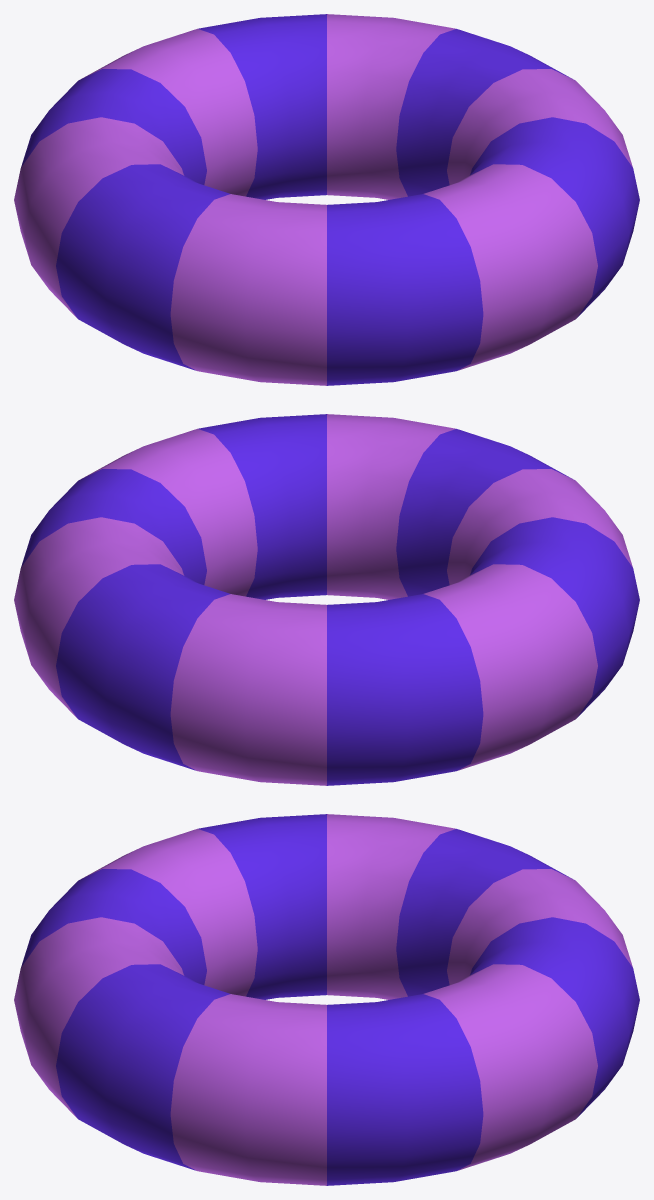
The picture shows the model from 3 angles, top to bottom: view 1: azimuth 30°, elevation 25°; view 2: azimuth 150°, elevation 25°; view 3: azimuth 270°, elevation 25°; orthographic projection.
Parts seen in each view (by area): view 1: Torus; view 2: Torus; view 3: Torus.
Boxes of the visible parts, x1=… form: Torus: x1=14, y1=14, x2=639, y2=385; Torus: x1=14, y1=414, x2=639, y2=785; Torus: x1=14, y1=814, x2=639, y2=1185.
Bounding box in the file's own units: 167 × 48.73 × 167.
